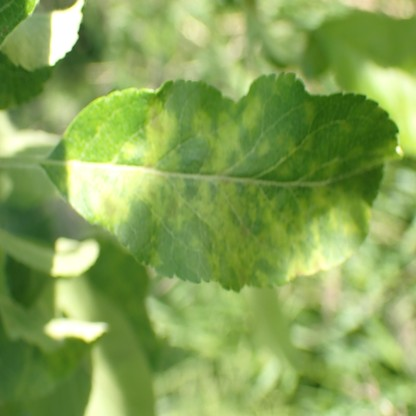scab: (189, 181, 253, 288), (252, 189, 298, 267), (141, 152, 184, 231), (312, 186, 371, 234), (85, 170, 129, 225), (146, 100, 176, 148), (297, 198, 319, 243), (200, 144, 233, 171), (218, 111, 239, 145), (242, 95, 261, 129), (191, 111, 212, 139), (308, 249, 330, 275), (286, 255, 305, 280), (323, 156, 338, 181), (149, 246, 162, 268), (303, 100, 314, 123), (256, 269, 269, 287), (258, 138, 269, 155), (303, 133, 313, 150), (339, 121, 352, 133), (287, 139, 295, 154), (308, 162, 316, 173)
